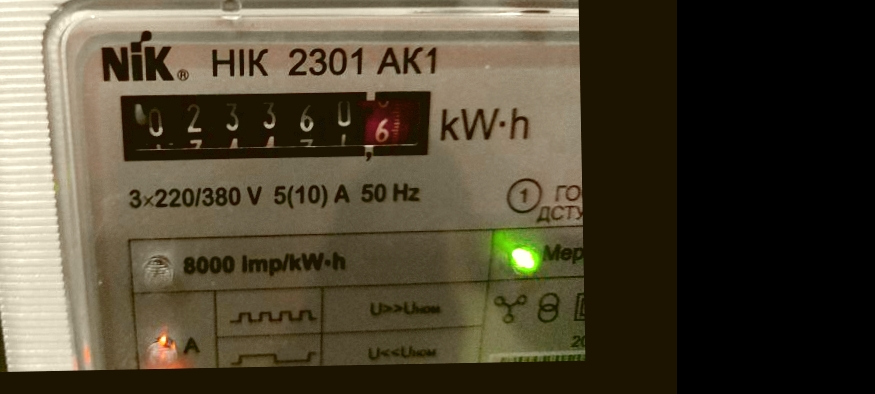0: (143, 104, 165, 137), (334, 96, 352, 127)
2: (181, 100, 205, 134)
3: (219, 99, 241, 132), (258, 98, 278, 129)
6: (294, 100, 315, 132), (370, 113, 391, 143)
screen: (101, 71, 445, 176)
